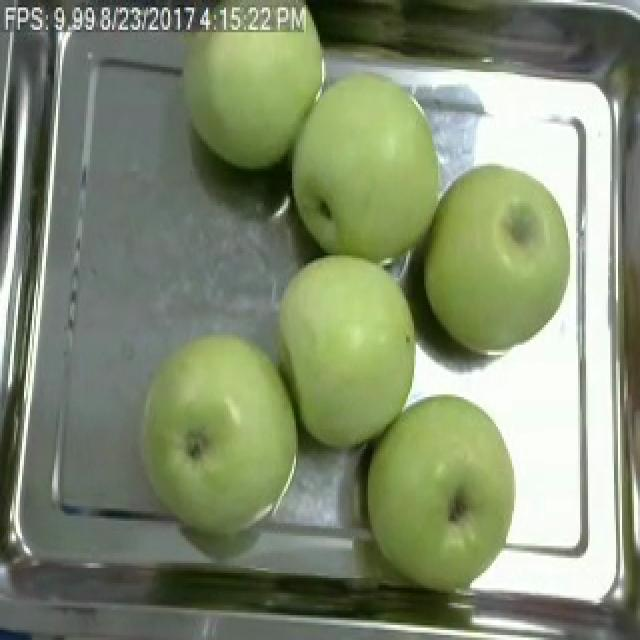50-_ripeness: (144, 336, 297, 534), (292, 75, 455, 259), (270, 258, 422, 448), (366, 390, 506, 584), (182, 0, 323, 177), (443, 163, 568, 351)
